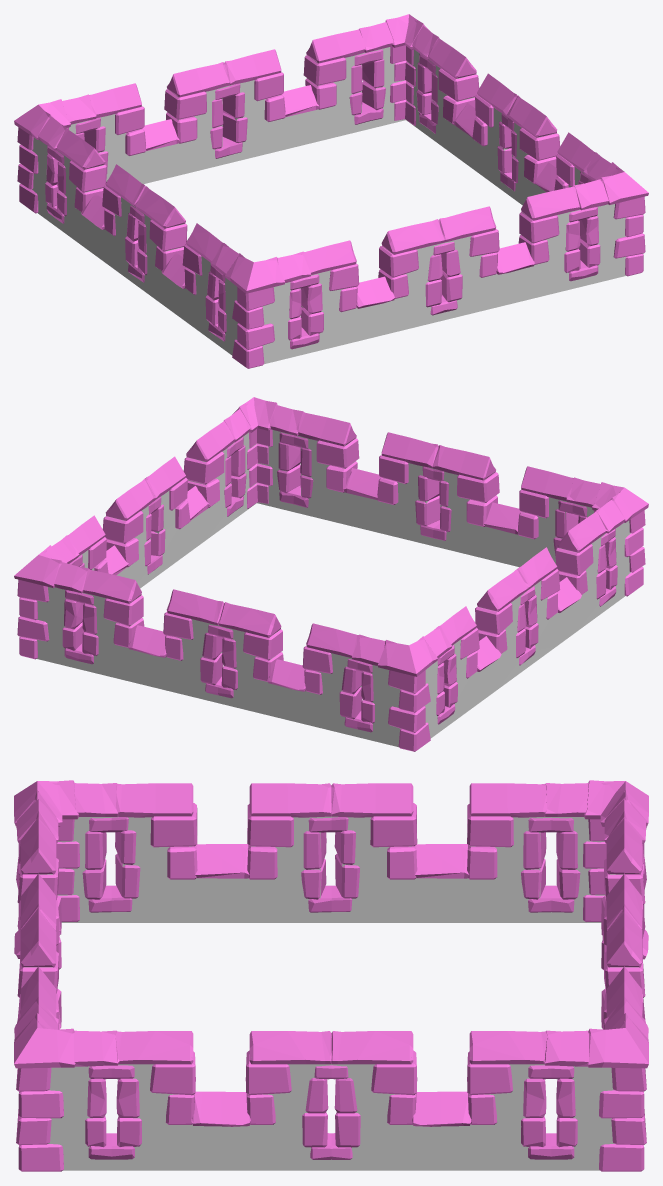
File: SM_Tower_Square_8m_Crenelations_Fantasy.fbx
3 views of the same model, one above another, from view 1: azimuth 30°, elevation 25°; view 2: azimuth 150°, elevation 25°; view 3: azimuth 270°, elevation 25° (orthographic). The views are drawn at different scales.
Parts seen in each view (by area): view 1: SM_Tower_Square_8m_Crenelations_Fantasy; view 2: SM_Tower_Square_8m_Crenelations_Fantasy; view 3: SM_Tower_Square_8m_Crenelations_Fantasy.
Part boxes in pixels (<box>): SM_Tower_Square_8m_Crenelations_Fantasy: <box>14,14,648,368</box>; SM_Tower_Square_8m_Crenelations_Fantasy: <box>14,397,648,751</box>; SM_Tower_Square_8m_Crenelations_Fantasy: <box>14,780,648,1171</box>.
Bounding box in the file's own units: 8.66 × 2.05 × 8.67.
